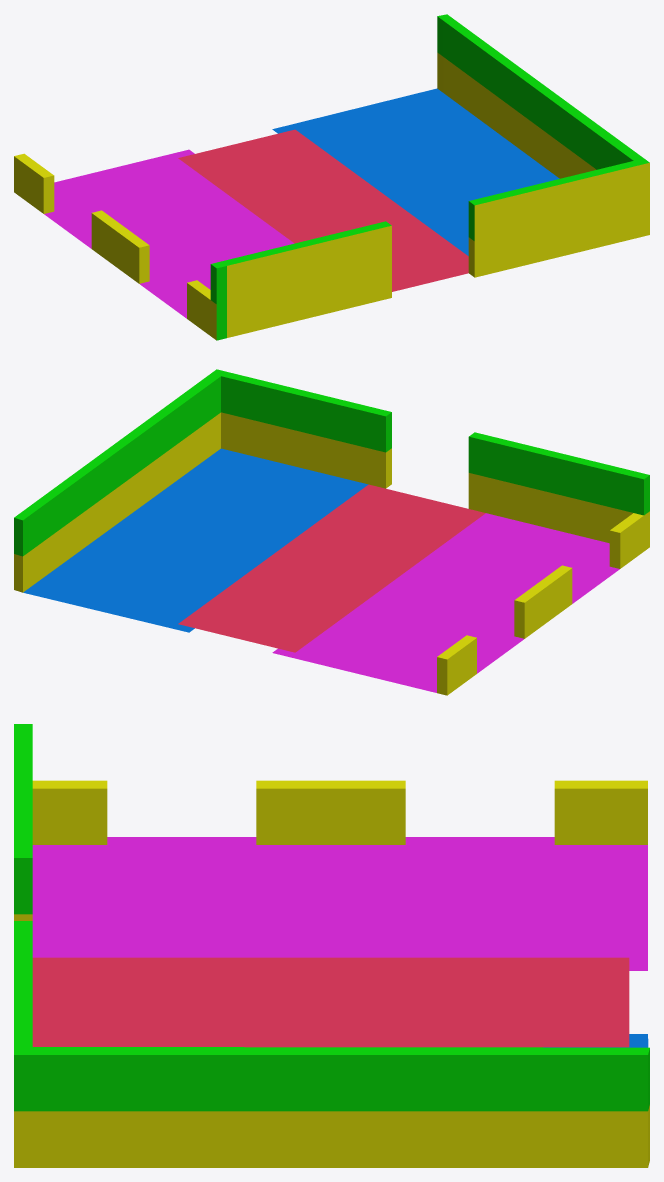
Rendered from EndGame_Arena.fbx.
3 renders of one model, top to bottom at view 1: azimuth 30°, elevation 25°; view 2: azimuth 150°, elevation 25°; view 3: azimuth 270°, elevation 25°, orthographic. The views are drawn at different scales.
Visible parts, largest first — view 1: Floor; view 2: Floor; view 3: Floor.
Boxes of the visible parts, <box> form: Floor: <box>14,14,649,340</box>; Floor: <box>14,369,649,695</box>; Floor: <box>14,724,649,1167</box>.
Bounding box in the file's own units: 12549 × 2000 × 10200.
